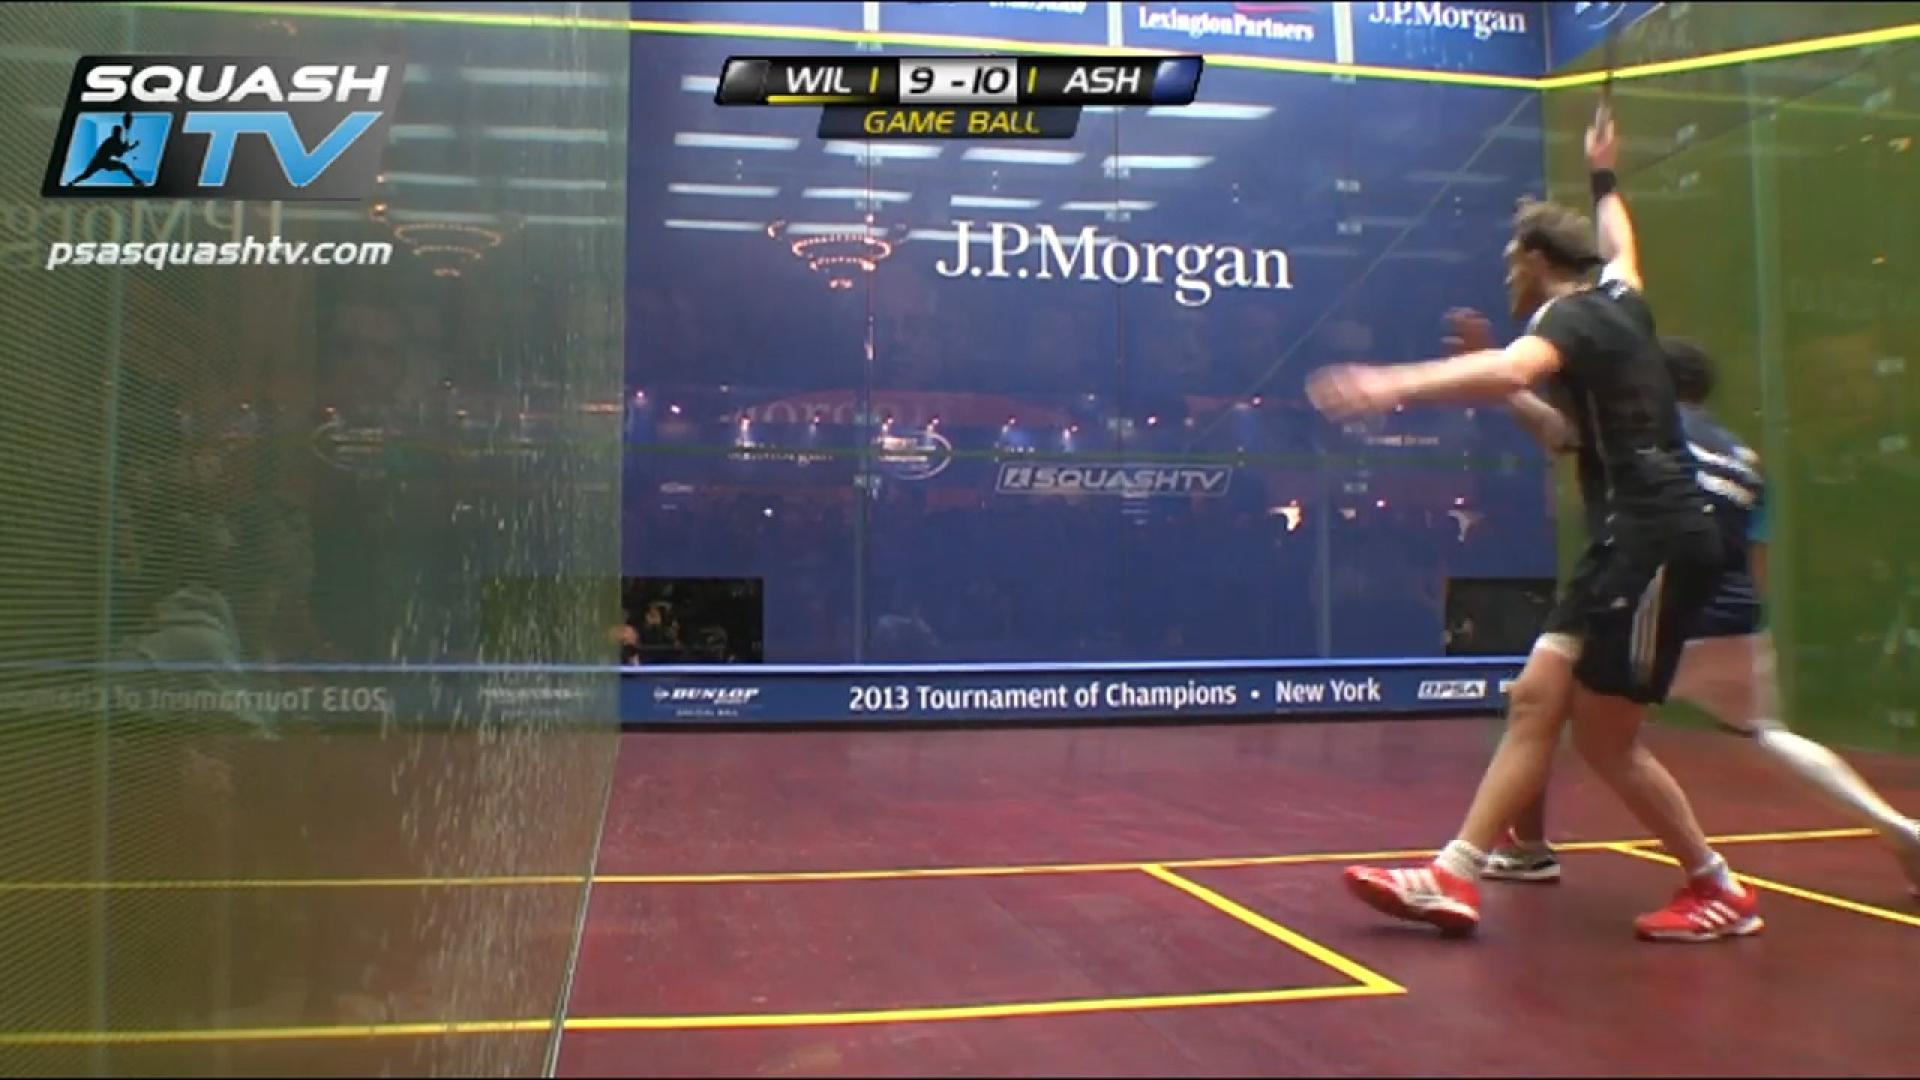Squash-Ball: (760, 497, 781, 527)
